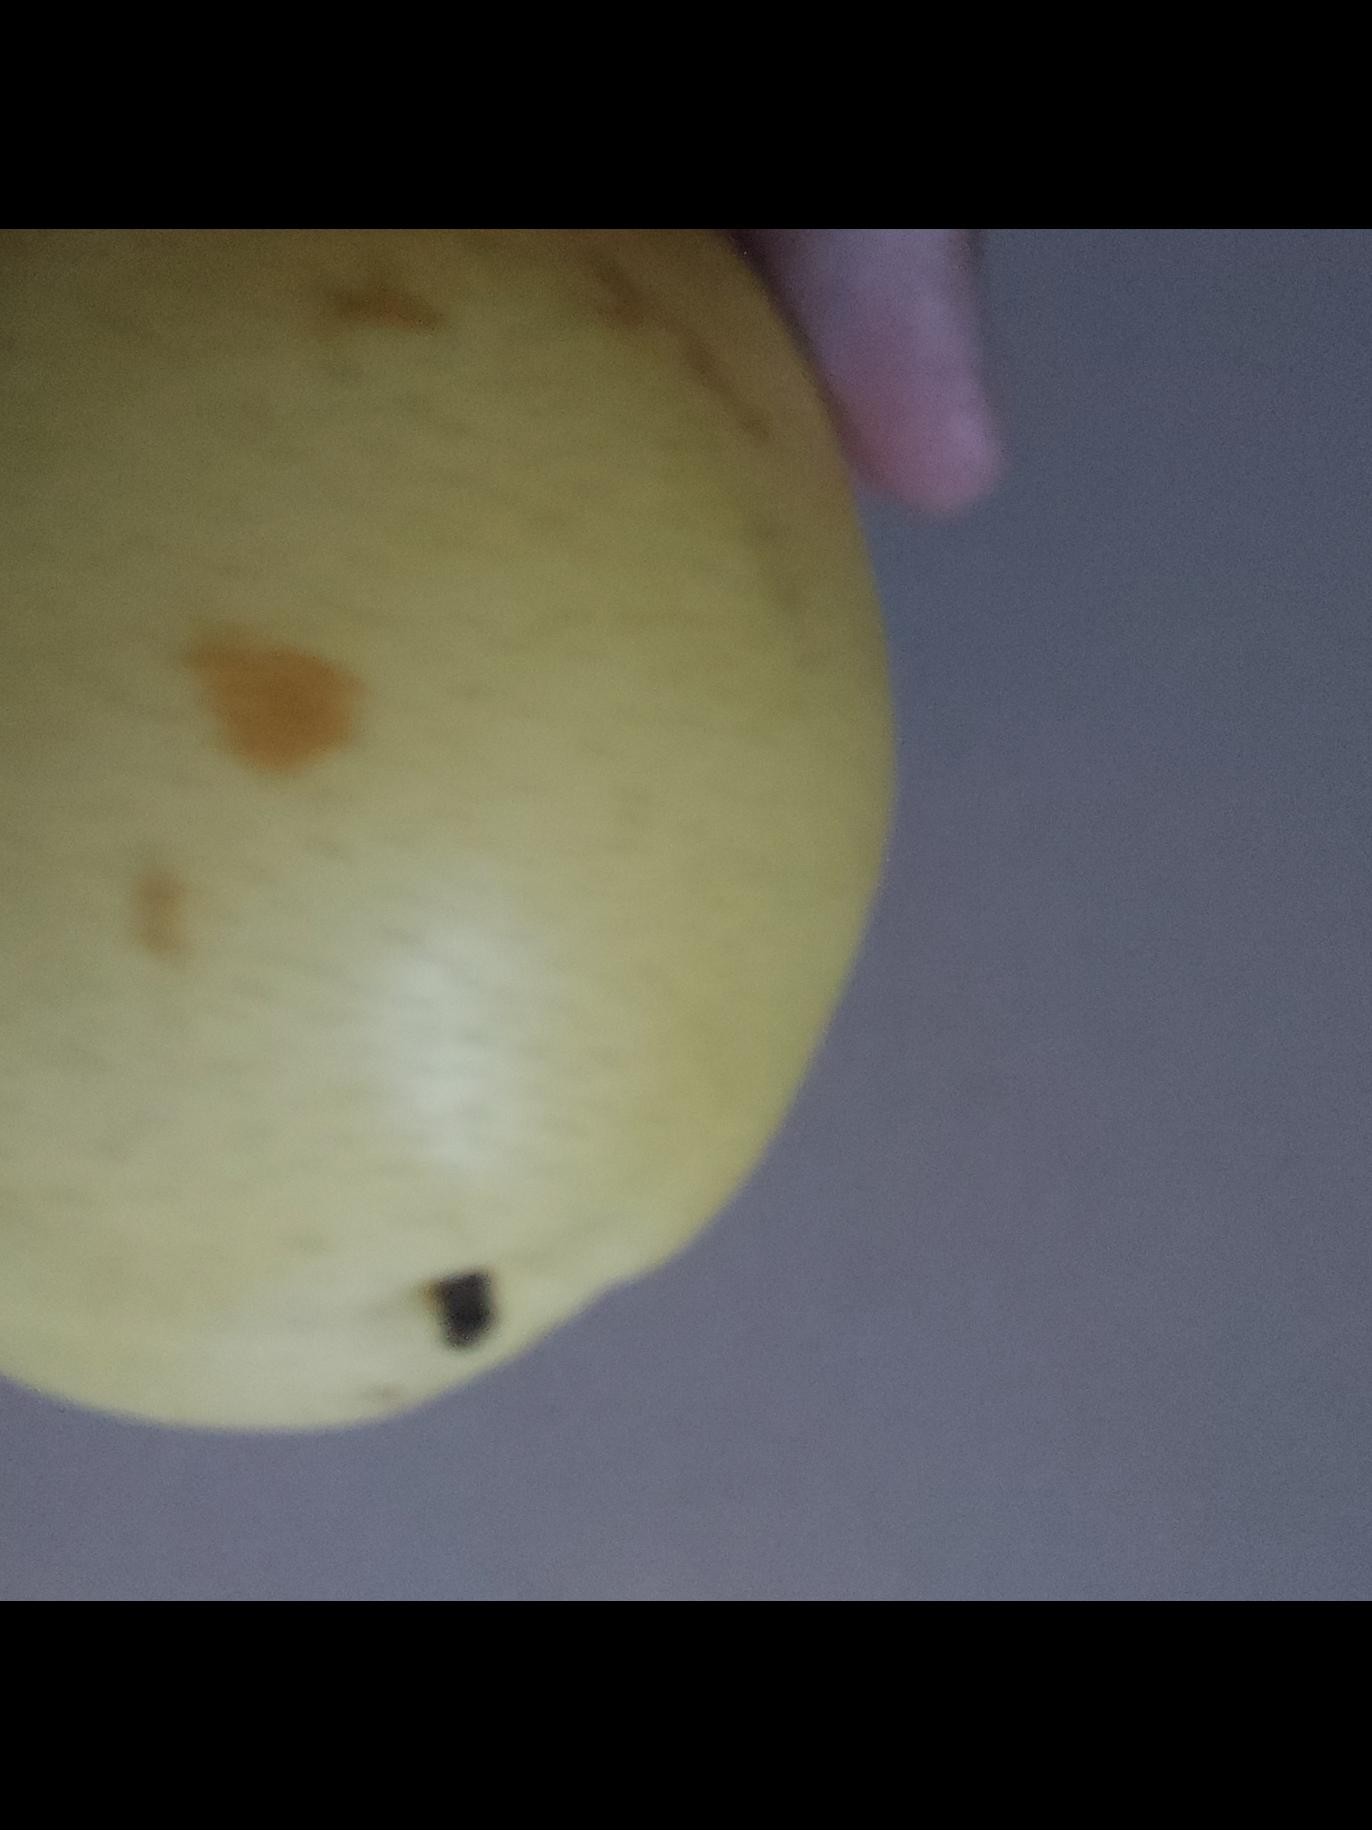Good Pear: (0, 229, 911, 1481)
